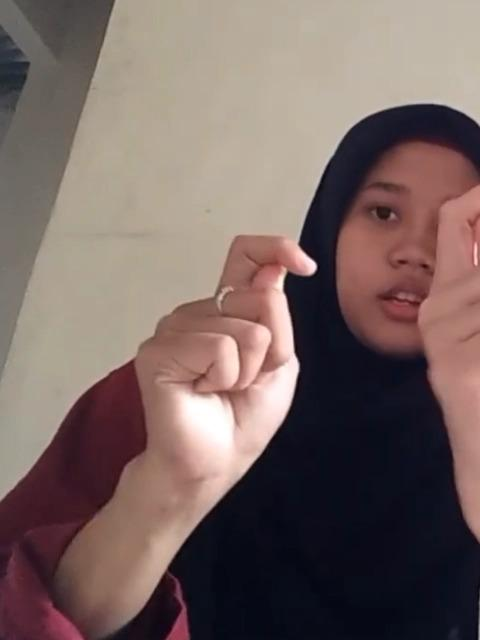T: (136, 229, 320, 493)
